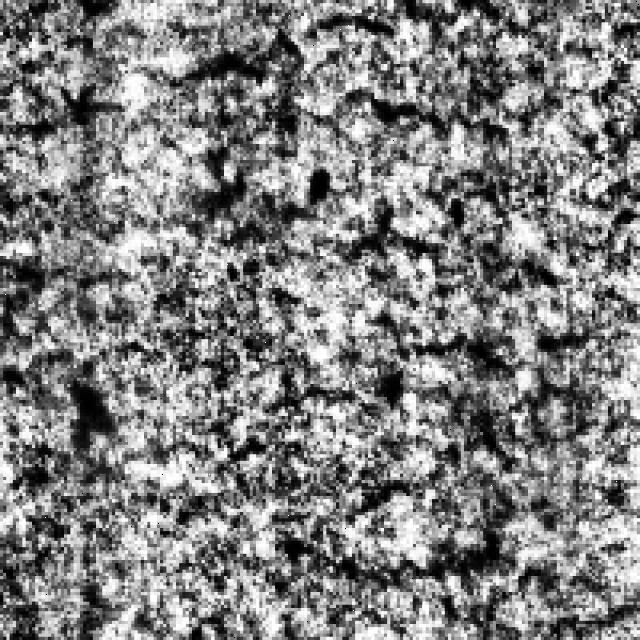Pitted_Surface: (262, 282, 608, 634), (16, 6, 557, 141)
